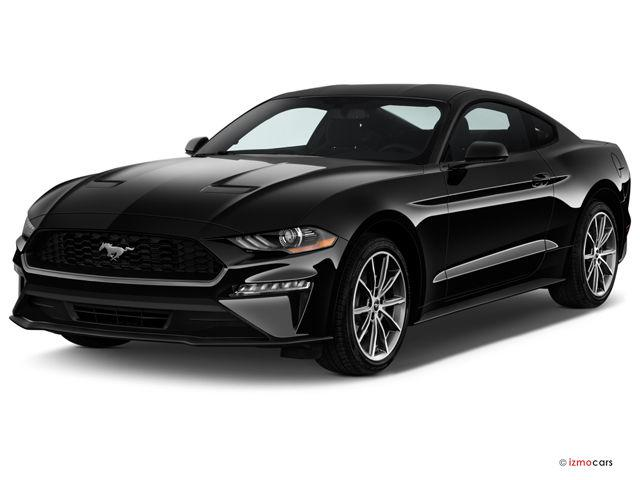car: (8, 78, 640, 376)
